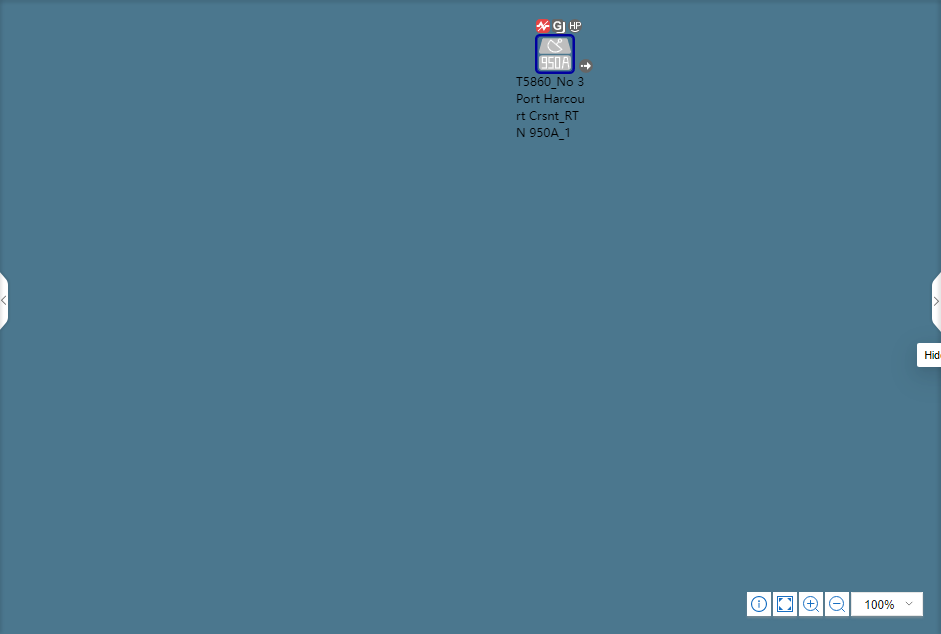RTN_Gray: (537, 37, 572, 71)
